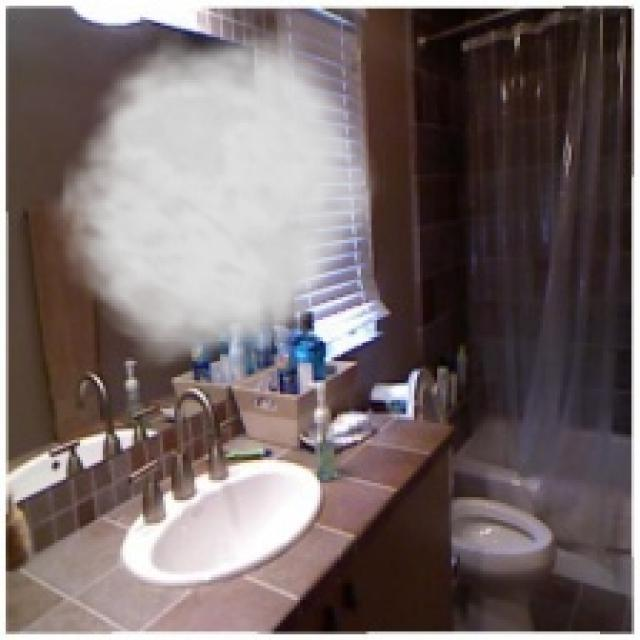smoke: (43, 17, 386, 372)
